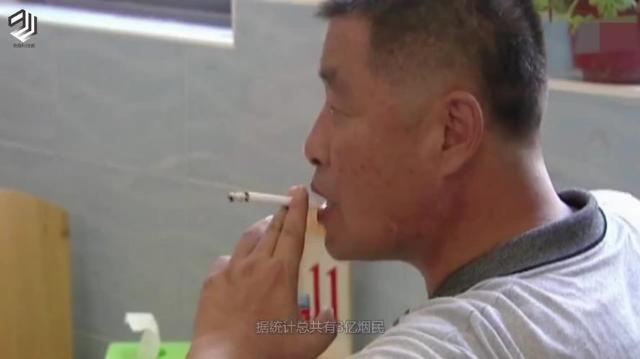Cigarette: (228, 193, 310, 209)
